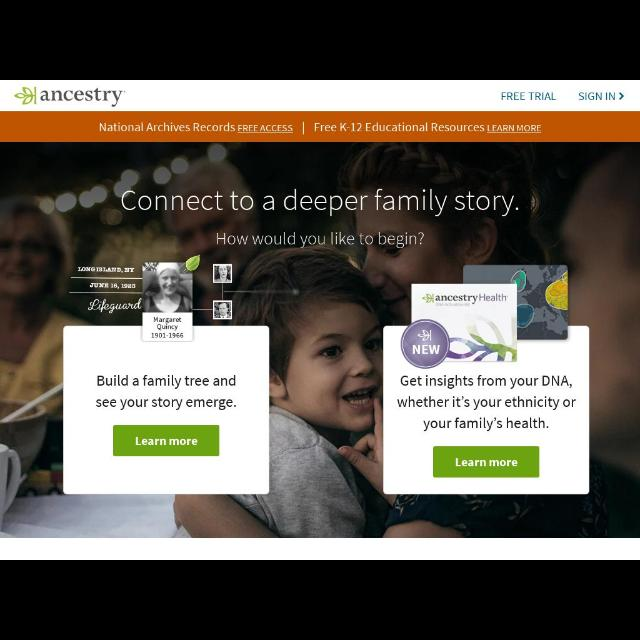backgroundimage: (1, 143, 639, 539)
icon: (619, 92, 625, 102)
image: (401, 262, 569, 370), (13, 85, 129, 108), (142, 263, 192, 313), (212, 300, 232, 320), (213, 264, 233, 284), (186, 254, 200, 272)
multitab: (498, 90, 628, 102)
text: (119, 190, 521, 218), (393, 375, 577, 435), (95, 374, 238, 412), (214, 230, 426, 250), (314, 121, 542, 133), (98, 122, 294, 134), (88, 298, 142, 314), (454, 456, 520, 468), (134, 436, 198, 448), (150, 317, 184, 339), (500, 91, 558, 102), (578, 90, 618, 102), (78, 267, 134, 273), (90, 283, 136, 289)
textbutton: (113, 424, 221, 458), (432, 446, 542, 478)
